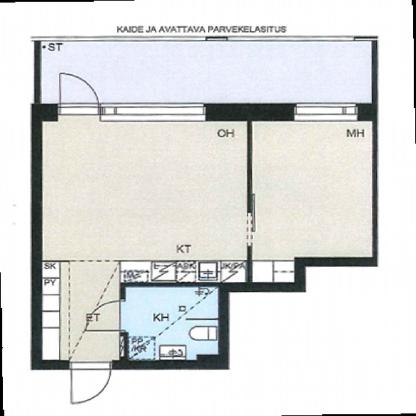door: (70, 362, 115, 408), (57, 72, 102, 118)
window: (105, 101, 205, 119), (292, 105, 359, 119)
zone: (42, 114, 249, 261), (39, 40, 372, 101), (252, 121, 372, 258), (43, 263, 120, 362), (126, 286, 218, 358), (122, 261, 293, 281)
